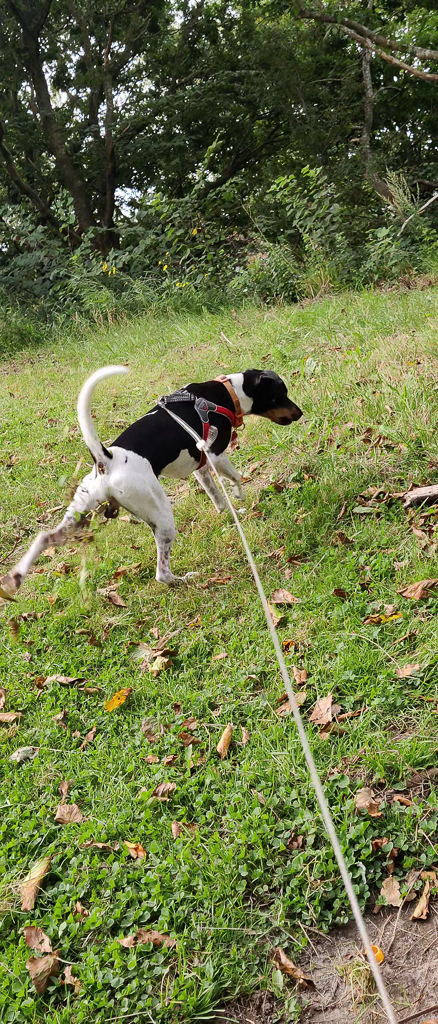Dog: (2, 355, 310, 606)
